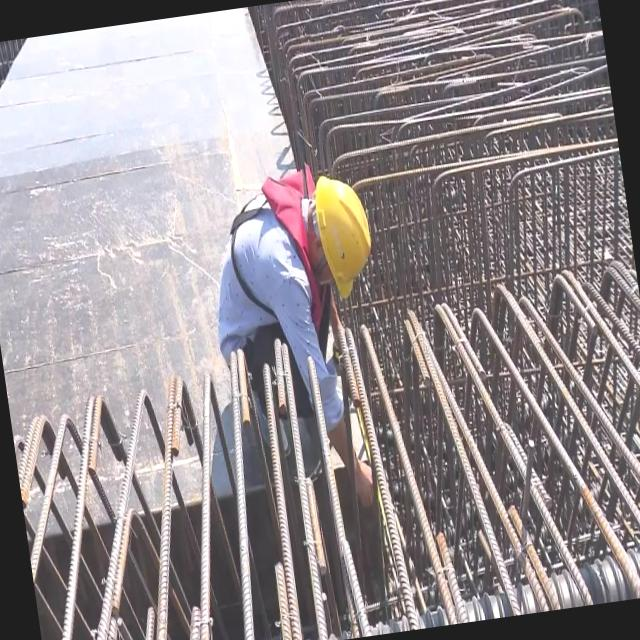helmet: (310, 163, 381, 307)
no-vest: (199, 171, 323, 344)
